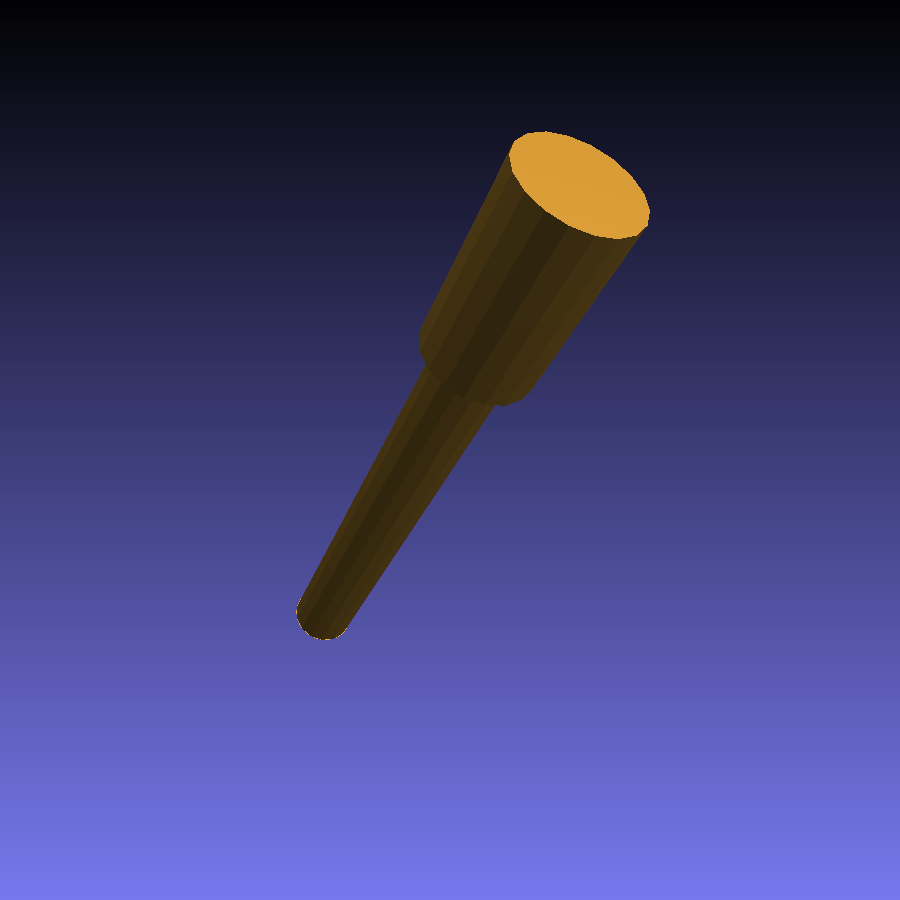cargo_g: (294, 133, 653, 643)
